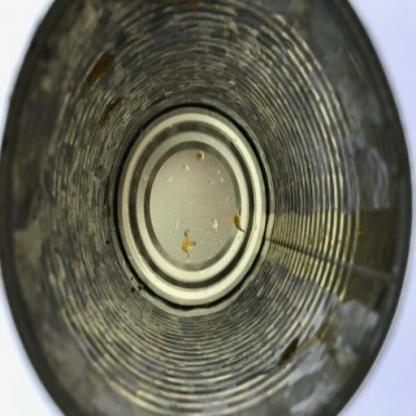Metal: (0, 1, 413, 415)
